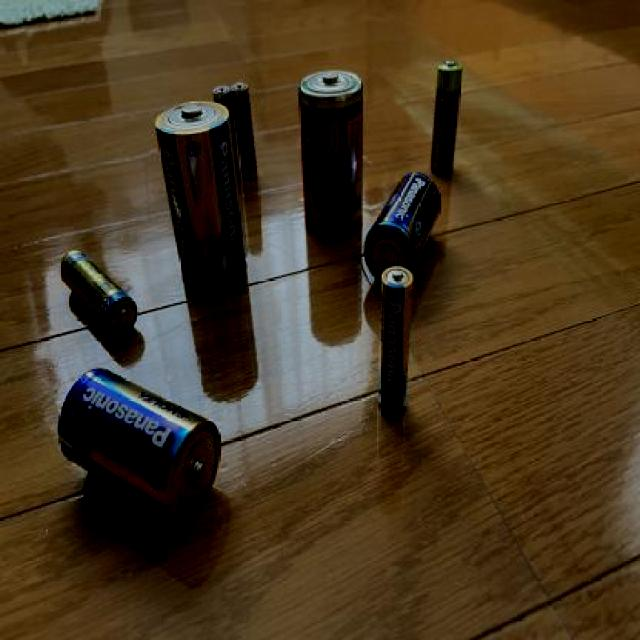AA: (56, 248, 142, 338)
AAA: (377, 264, 414, 418), (430, 56, 472, 176)
